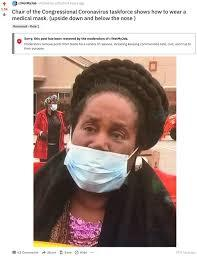Wore Mask Incorrectly: (55, 57, 172, 199)
